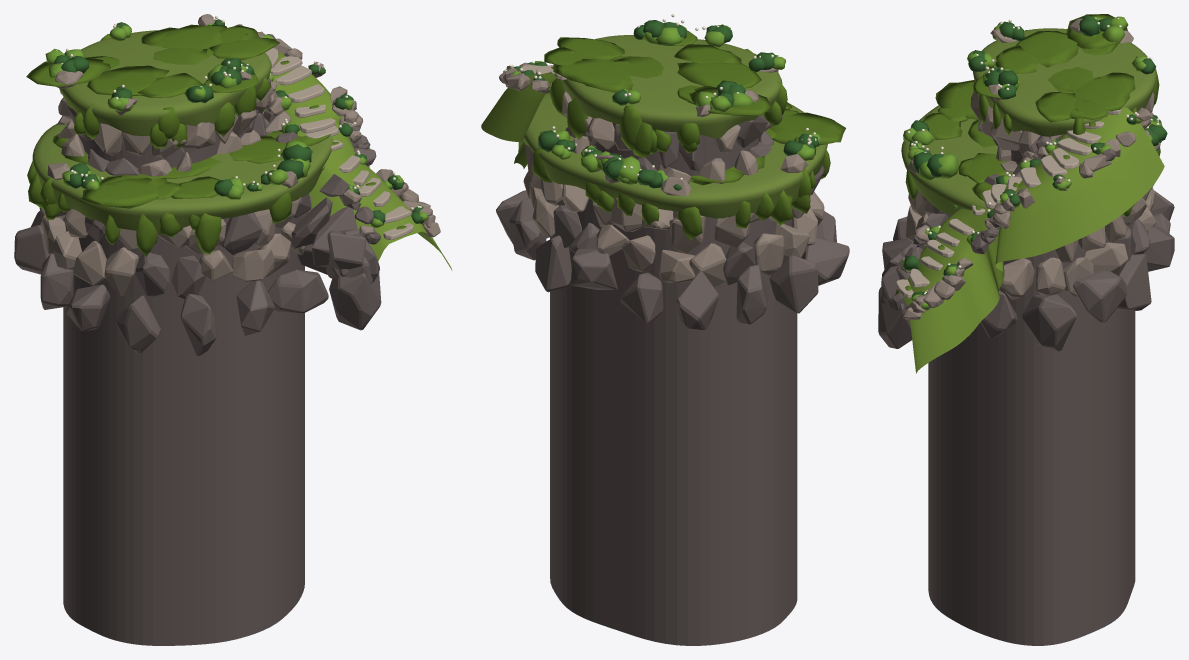
File: promontory3.glb
3 renders of one model, left to right at view 1: azimuth 30°, elevation 25°; view 2: azimuth 150°, elevation 25°; view 3: azimuth 270°, elevation 25°, orthographic. The views are drawn at different scales.
Parts seen in each view (by area): view 1: stone_shadow, moss_drape, stone, moss_top, grass, bush, step_stone, bush_light; view 2: stone_shadow, moss_drape, stone, moss_top, bush, bush_light, grass; view 3: stone_shadow, grass, stone, moss_drape, moss_top, bush, step_stone, bush_light, flower.
Boxes of the visible parts, x1,y1,x2,y2 form: stone_shadow: (14, 34, 381, 645); moss_drape: (26, 24, 406, 256); stone: (42, 14, 440, 296); moss_top: (32, 30, 333, 232); grass: (263, 52, 452, 270); bush: (53, 19, 423, 223); step_stone: (265, 48, 414, 240); bush_light: (45, 23, 428, 227); stone_shadow: (496, 72, 849, 645); moss_drape: (532, 30, 845, 239); stone: (499, 62, 824, 287); moss_top: (523, 35, 827, 218); bush: (514, 20, 818, 190); bush_light: (503, 24, 820, 184); grass: (481, 72, 561, 168); stone_shadow: (878, 136, 1174, 645); grass: (895, 107, 1164, 373); stone: (899, 18, 1160, 319); moss_drape: (905, 14, 1160, 290); moss_top: (901, 28, 1158, 214); bush: (904, 14, 1167, 297); step_stone: (896, 108, 1121, 298); bush_light: (902, 16, 1162, 309); flower: (907, 17, 1159, 294).
Size of the model in its own units: 29.17 by 43.35 by 21.7.
